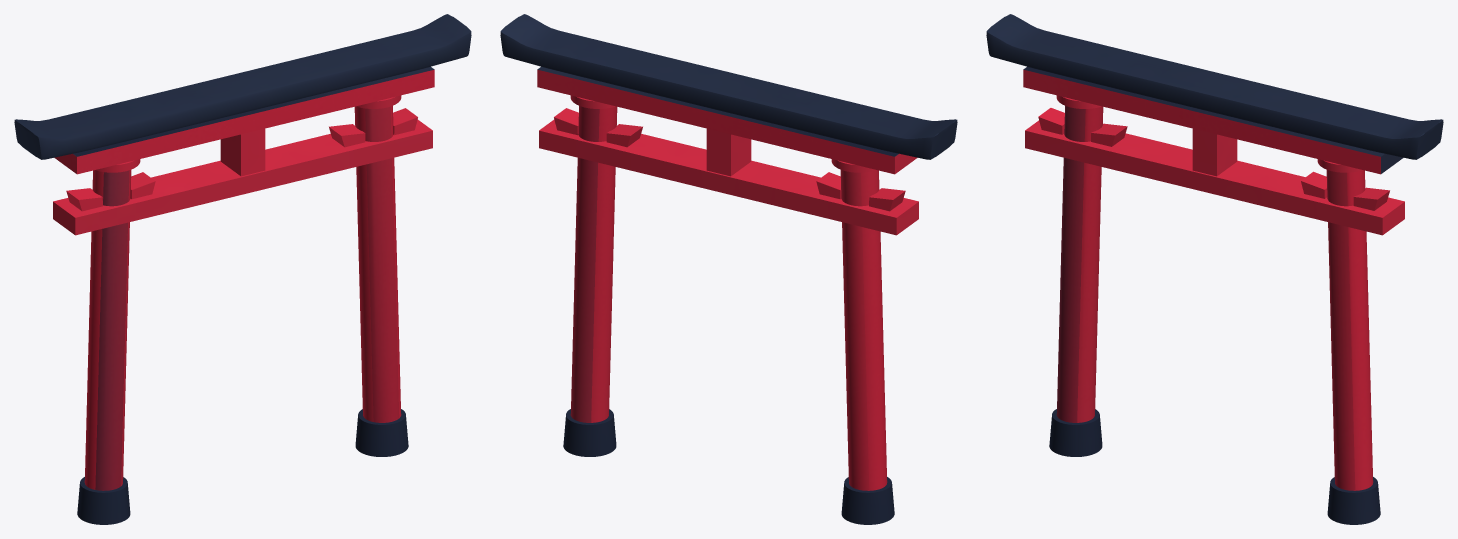
Rendered from torii1.obj.
3 views of the same model, side by side, from view 1: azimuth 30°, elevation 25°; view 2: azimuth 150°, elevation 25°; view 3: azimuth 330°, elevation 25° (orthographic).
Parts seen in each view (by area): view 1: 鳥居_立方体.011; view 2: 鳥居_立方体.011; view 3: 鳥居_立方体.011.
Boxes of the visible parts, <box> form: 鳥居_立方体.011: <box>14,14,471,524</box>; 鳥居_立方体.011: <box>500,14,957,524</box>; 鳥居_立方体.011: <box>986,14,1443,524</box>.
Size of the model in its own units: 4.18 by 3.72 by 0.4656.
Materials: 1 (1 with a texture image).
